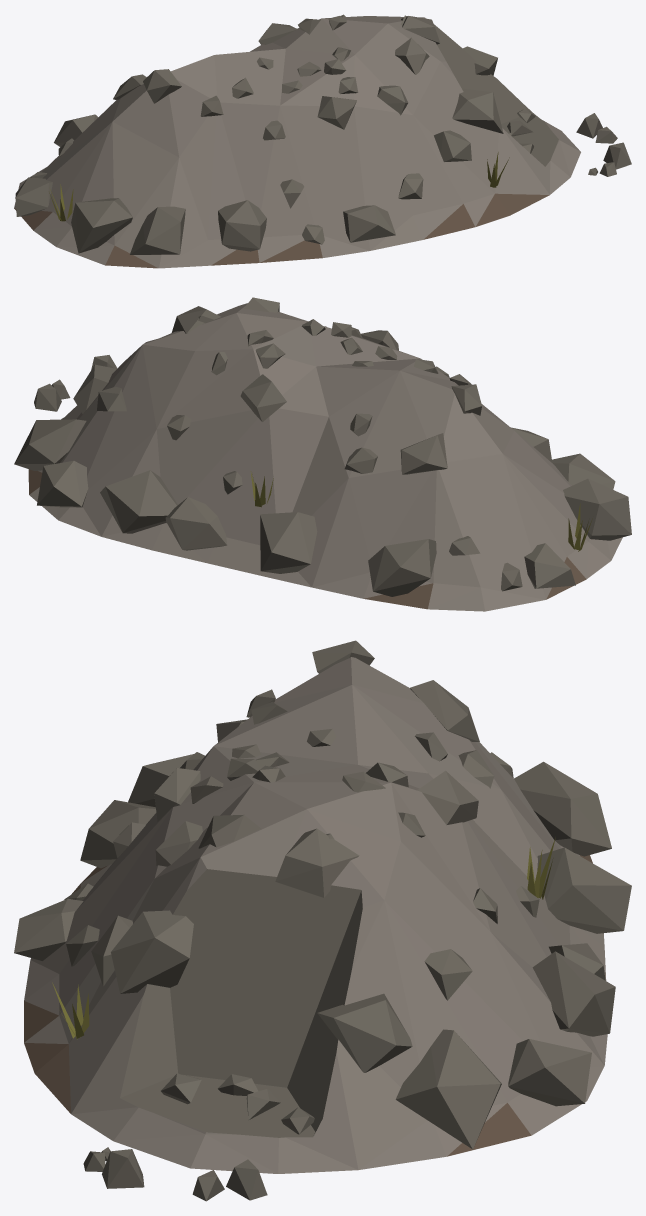
File: ballast-heap-2fb138.glb
3 renders of one model, top to bottom at view 1: azimuth 30°, elevation 25°; view 2: azimuth 150°, elevation 25°; view 3: azimuth 270°, elevation 25°, orthographic. The views are drawn at different scales.
Parts seen in each view (by area): view 1: heap; view 2: heap; view 3: heap.
Boxes of the visible parts, bbox=[...] form: heap: bbox=[14, 14, 631, 268]; heap: bbox=[14, 297, 631, 611]; heap: bbox=[14, 640, 631, 1201].
Size of the model in its own units: 3.17 by 0.8085 by 1.92.
